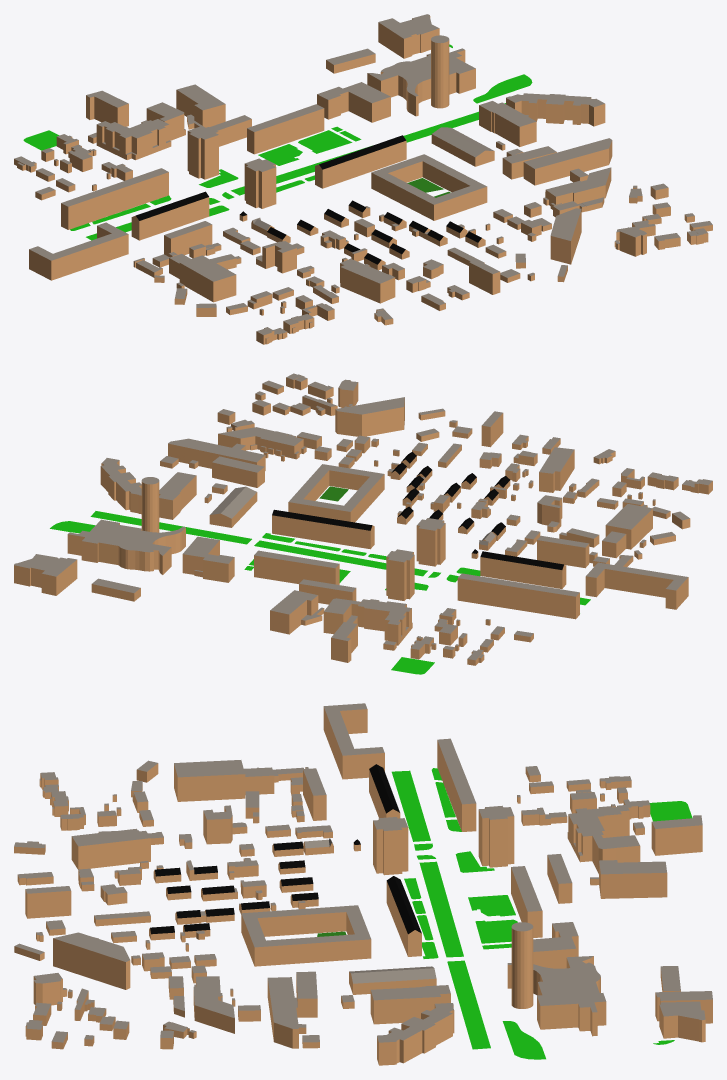
Rendered from projet1.glb.
3 views of the same model, one above another, from view 1: azimuth 30°, elevation 25°; view 2: azimuth 150°, elevation 25°; view 3: azimuth 270°, elevation 25° (orthographic). The views are drawn at different scales.
Visible parts, largest first — view 1: map.osm_buildings, map.osm_vegetation; view 2: map.osm_buildings, map.osm_vegetation; view 3: map.osm_buildings, map.osm_vegetation.
Part boxes in pixels (<box>): map.osm_buildings: <box>14,14,712,344</box>; map.osm_vegetation: <box>23,44,532,240</box>; map.osm_buildings: <box>14,373,712,665</box>; map.osm_vegetation: <box>50,511,590,674</box>; map.osm_buildings: <box>14,703,712,1065</box>; map.osm_vegetation: <box>391,768,692,1059</box>.
Bounding box in the file's own units: 504 × 54 × 440.
